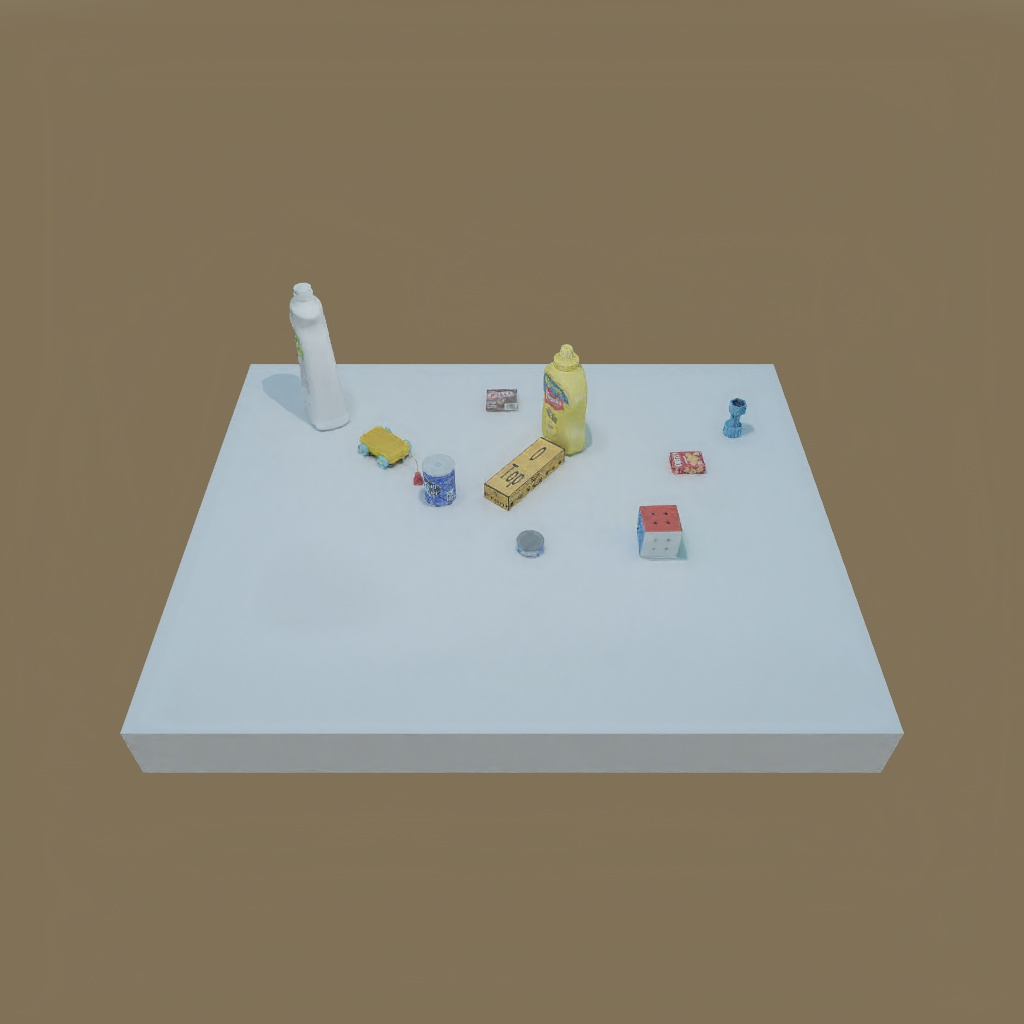jenga: (487, 437, 563, 509)
master_chef_can: (421, 451, 460, 511)
mustard_bottle: (544, 341, 596, 456)
pudding_box: (484, 384, 523, 414)
rubiks_cube: (632, 504, 687, 561)
